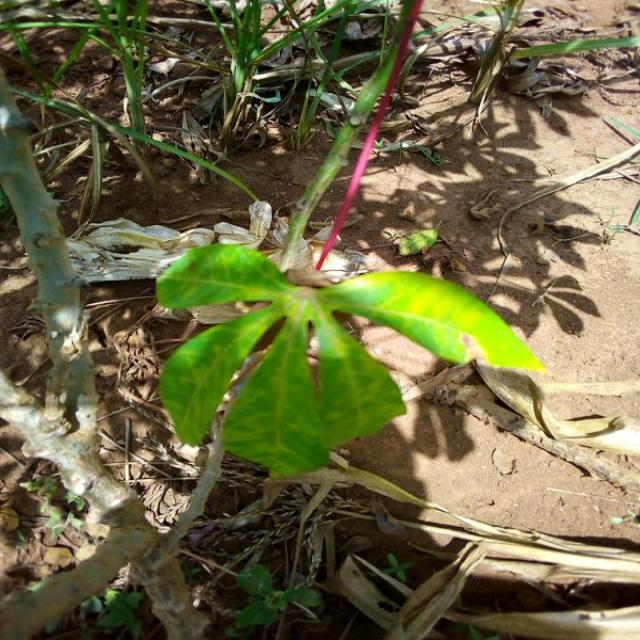cassava leaf: (155, 241, 548, 479), (314, 269, 548, 374)
